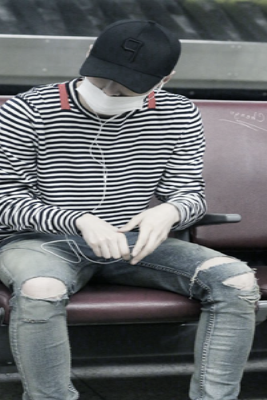mask_weared_incorrect: (72, 77, 155, 117)
